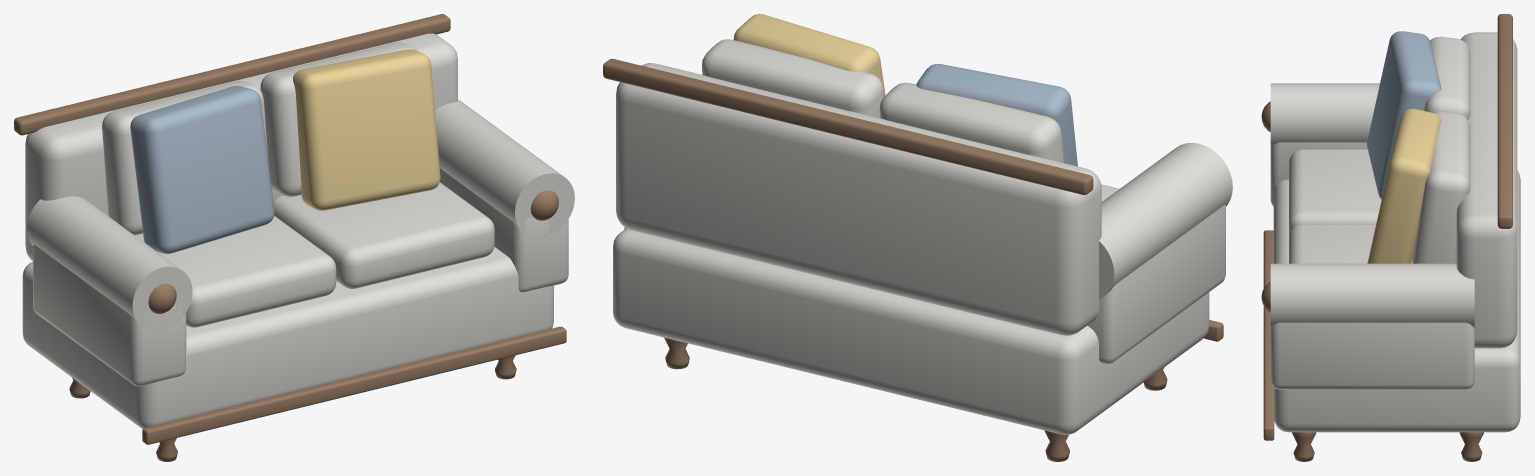
Rendered from sofa_small.glb.
3 views of the same model, side by side, from view 1: azimuth 30°, elevation 25°; view 2: azimuth 150°, elevation 25°; view 3: azimuth 270°, elevation 25° (orthographic). The views are drawn at different scales.
Visible parts, largest first — view 1: base, cushB, cushA, seat1, seat0, arm, armbase, back, arm.001, trim, backrail, armbase.001 (+4 smaller); view 2: back, base, arm, backrail, armbase, backc0, backc1, cushA, cushB; view 3: base, armbase.001, back, arm.001, seat0, cushB, arm, backc1, cushA, backrail, seat1, backc0 (+4 smaller).
Boxes of the visible parts, <box> form: base: <box>22,247,553,428</box>; cushB: <box>293,49,440,210</box>; cushA: <box>130,86,274,253</box>; seat1: <box>273,182,494,288</box>; seat0: <box>135,216,336,327</box>; arm: <box>27,196,192,330</box>; armbase: <box>33,244,186,386</box>; back: <box>25,33,457,260</box>; arm.001: <box>435,99,574,237</box>; trim: <box>142,326,566,444</box>; backrail: <box>14,14,450,135</box>; armbase.001: <box>440,168,568,292</box>; back: <box>616,63,1101,335</box>; base: <box>613,228,1209,434</box>; arm: <box>1099,142,1232,299</box>; backrail: <box>603,58,1093,194</box>; armbase: <box>1087,205,1225,363</box>; backc0: <box>879,82,1063,162</box>; backc1: <box>701,39,884,117</box>; cushA: <box>916,64,1077,166</box>; cushB: <box>733,14,885,96</box>; base: <box>1273,170,1520,432</box>; armbase.001: <box>1270,322,1474,389</box>; back: <box>1456,32,1517,348</box>; arm.001: <box>1270,263,1474,328</box>; seat0: <box>1289,149,1381,235</box>; cushB: <box>1367,108,1441,263</box>; arm: <box>1270,83,1379,148</box>; backc1: <box>1412,111,1470,263</box>; cushA: <box>1367,31,1441,199</box>; backrail: <box>1497,14,1512,228</box>; seat1: <box>1289,224,1412,263</box>; backc0: <box>1424,36,1470,119</box>.
Bounding box in the file's own units: 1.62 × 1.03 × 0.85.
